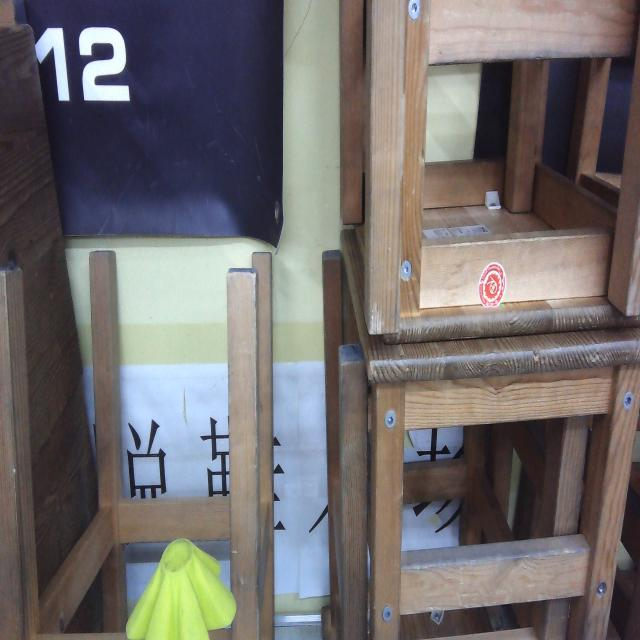Yellow-Stake-Head: (125, 538, 237, 640)
